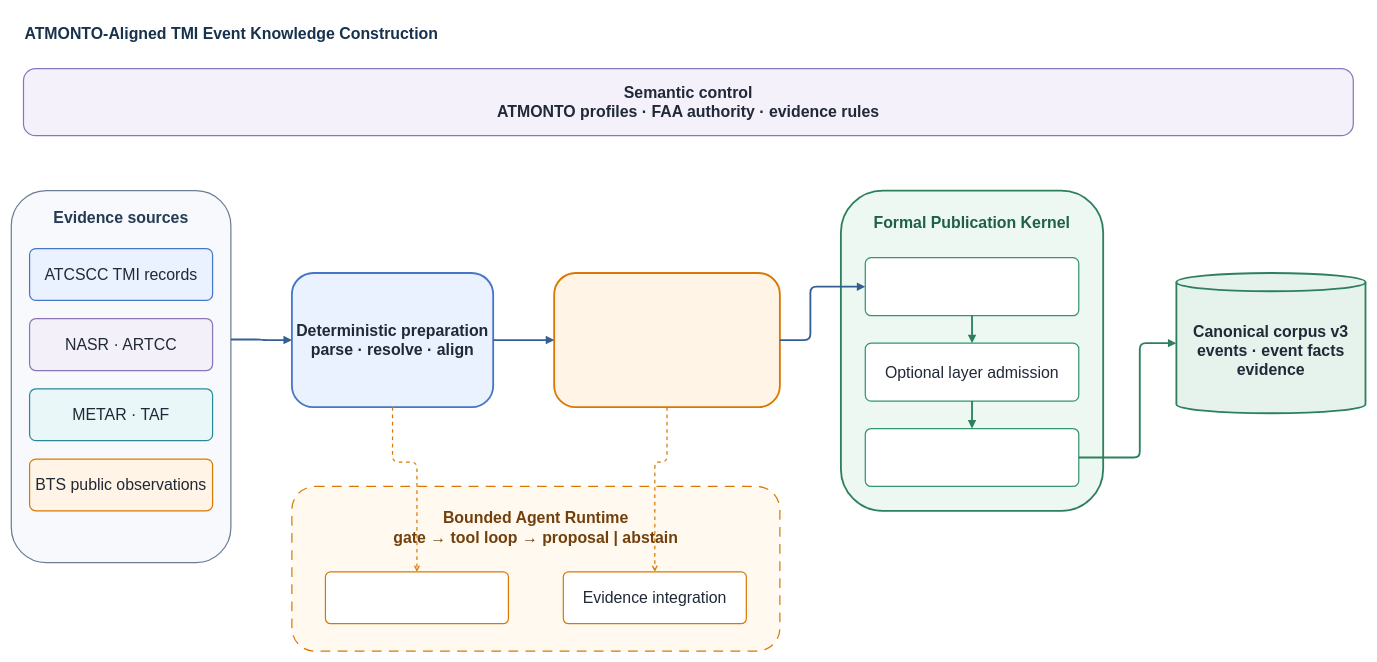
This 1377x662 diagram has some shape labels left out. Here are the shapes that lost their labels. From the top down, the centre of each, then its label:
(x=971, y=286): TMI application profile
(x=666, y=340): Event evidence integration sealed task → proposal
(x=971, y=457): Multi-profile validation
(x=417, y=597): Semantic resolution
